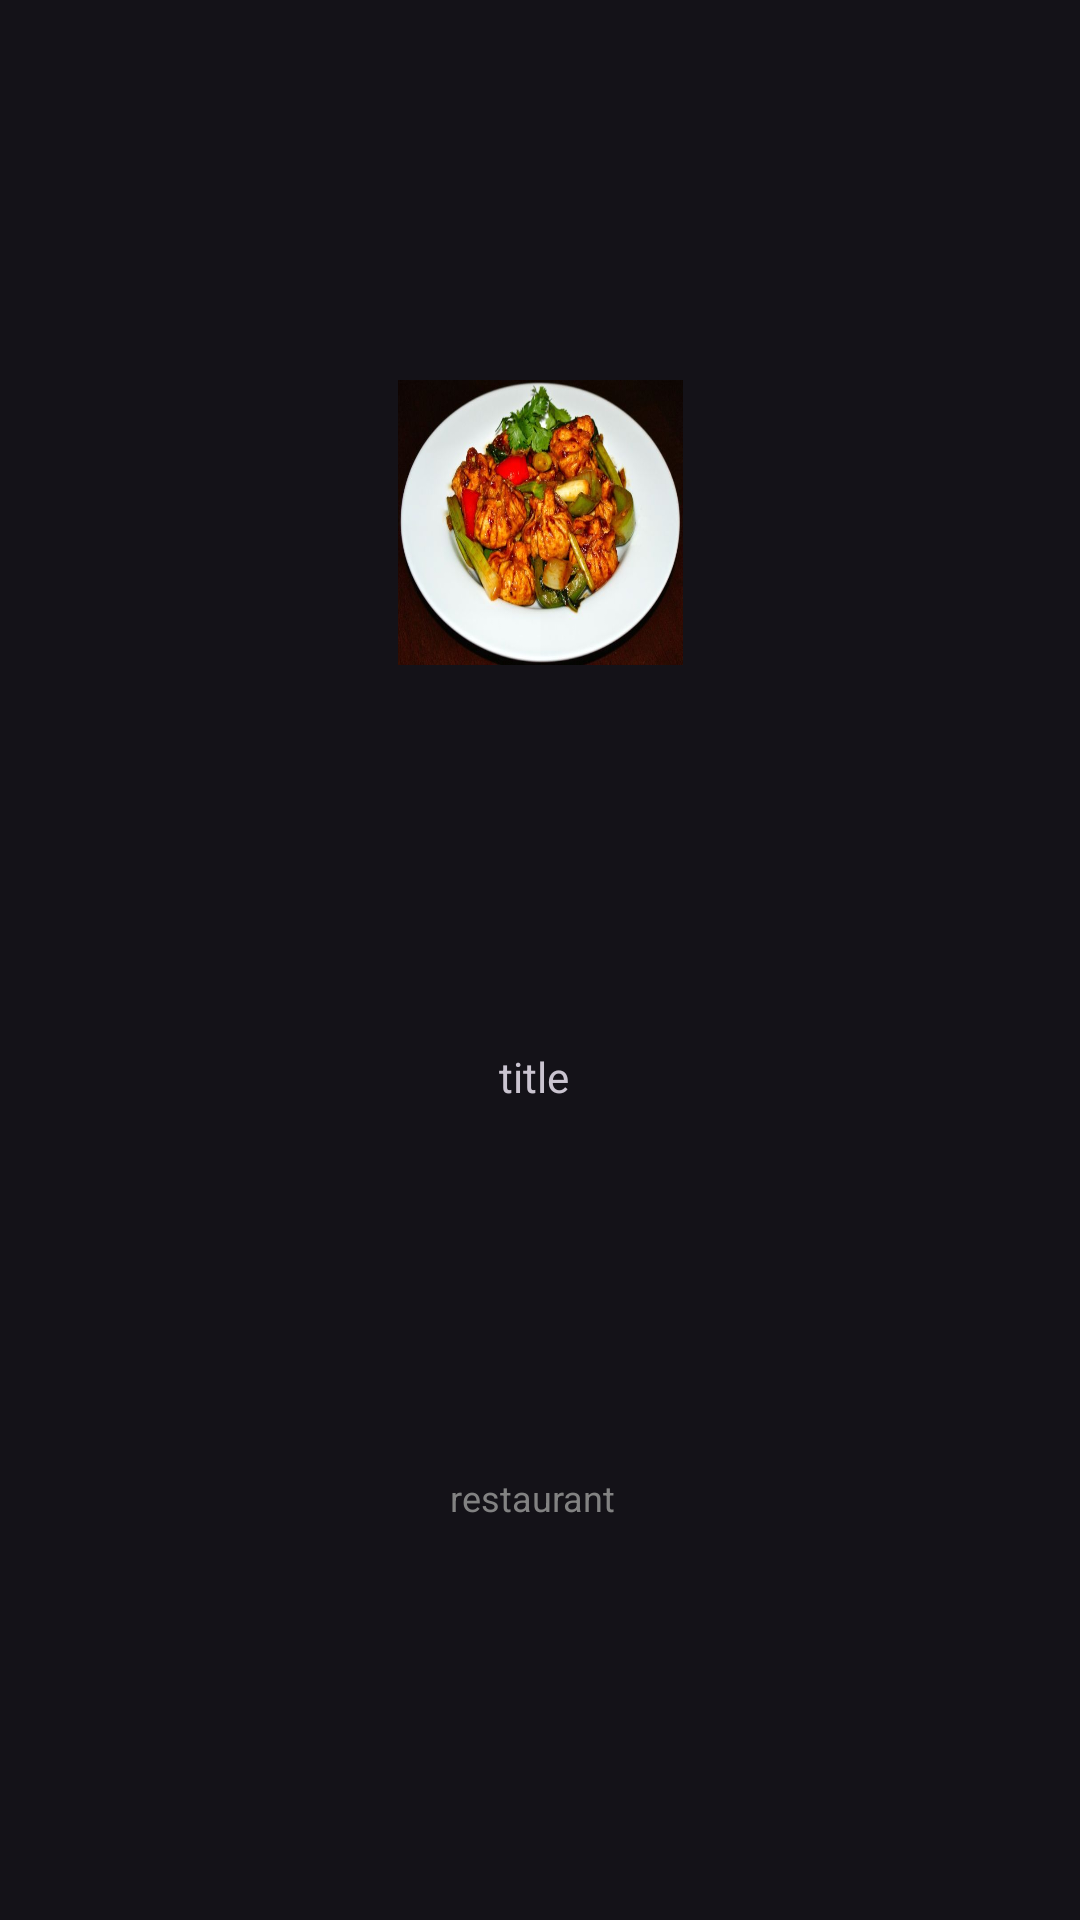

Icon click points for this 1080*1920 phone screenshot, format point (x, y):
chilimomo: point (540, 523)
